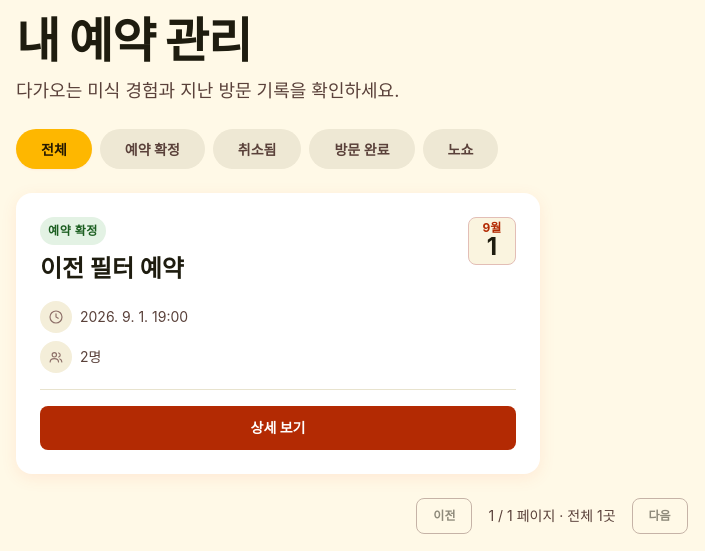
Test: 내 예약 내역 › 상태 필터를 바꾸면 이전 필터의 예약을 계속 보여 주지 않는다
The width and height of the screenshot is (705, 551).
Check: the link "이전 필터 예약" is shown, box top-left (40, 254), bottom-right (184, 283)
What coordinates should you click on to do the following:
click the button "방문 완료"
I would click on:
 (362, 149)
Its box is top-left (310, 129), bottom-right (415, 169).
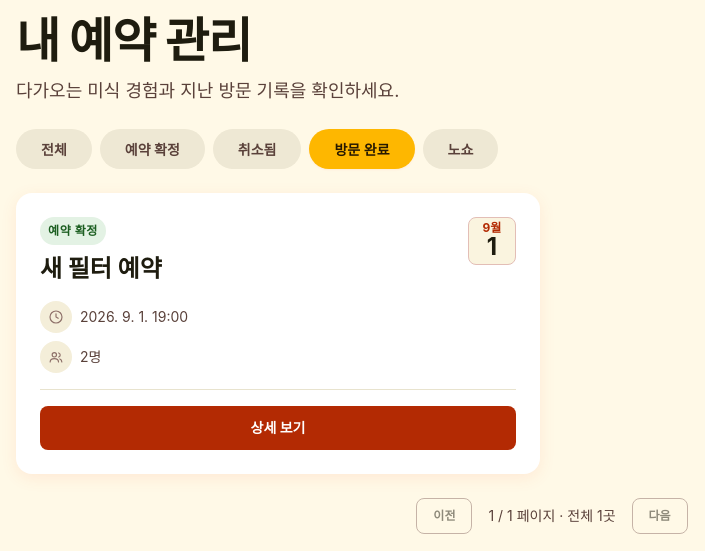
Check: the link "이전 필터 예약" is gone
Check: the link "새 필터 예약" is shown, box top-left (40, 254), bottom-right (162, 283)
